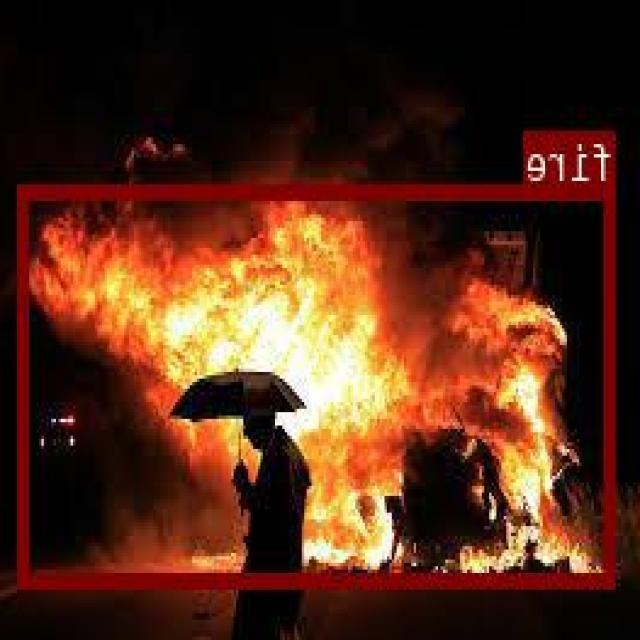fire: (21, 184, 616, 586)
